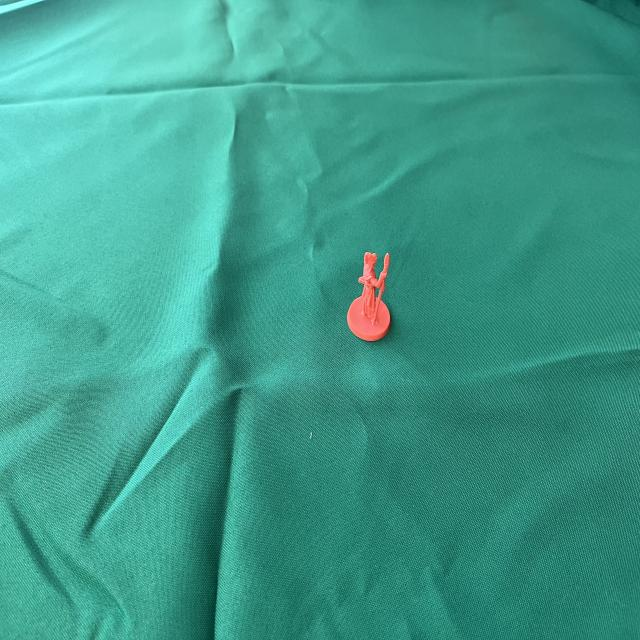amon_follower: (348, 252, 390, 340)
